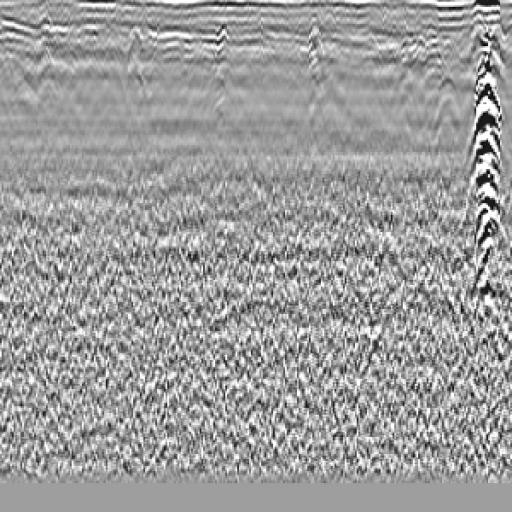metalic: (459, 23, 512, 337)
